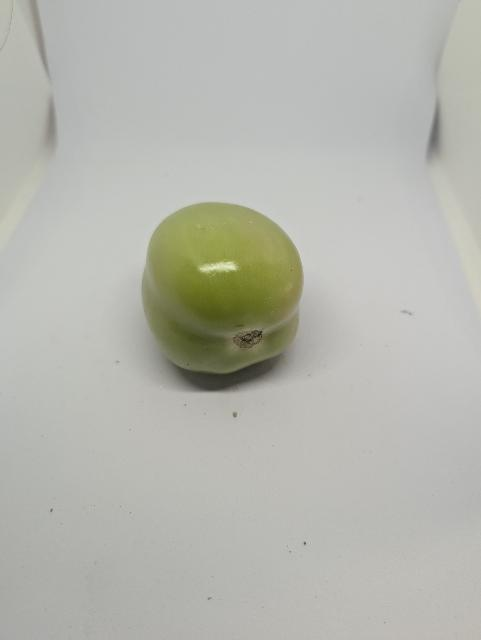green: (114, 191, 331, 396)
